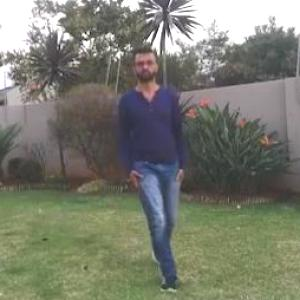follow: (126, 53, 188, 261)
